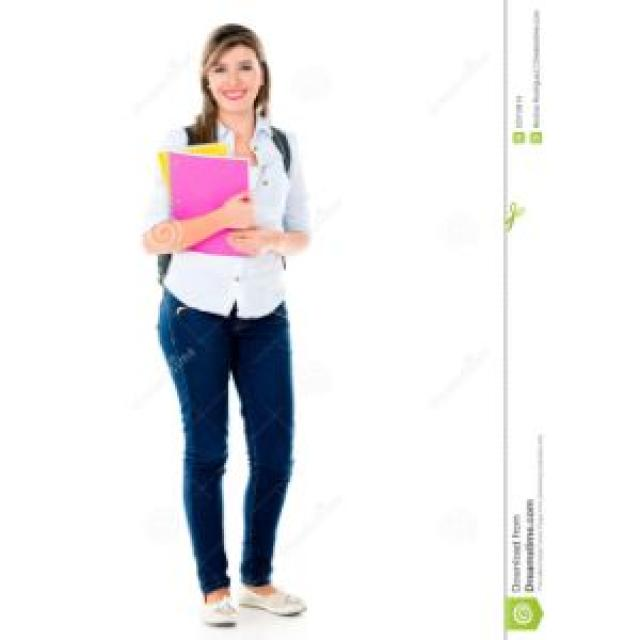adult: (139, 28, 322, 627)
